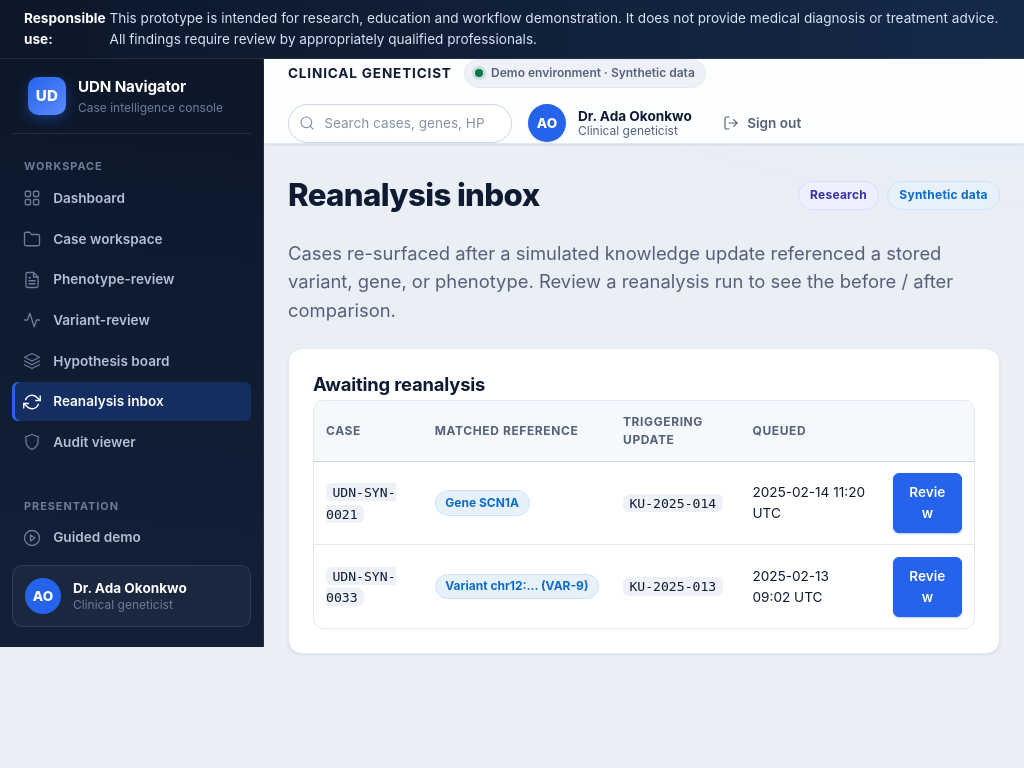
Test: Reanalysis inbox interactions › expands a before/after comparison on review
Step 1. Click the button "Review" in the row of "UDN-SYN-0021" → {"x": 927, "y": 503}, box left=893, top=473, right=962, bottom=533
(page scrolled)
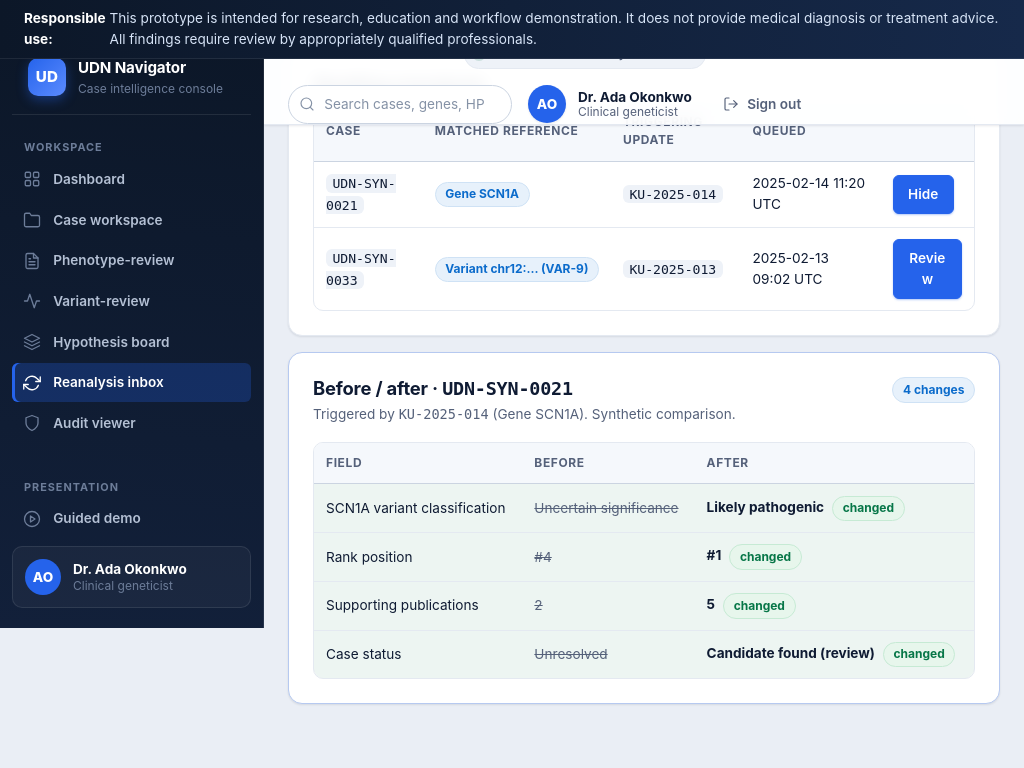
Check: the heading "Before / after · UDN-SYN-0021" is shown, box left=313, top=378, right=573, bottom=400
Check: the button named "Review" is expanded, box left=893, top=175, right=954, bottom=214
Check: the text "changed" next to "Likely pathogenic" is shown, box left=843, top=500, right=894, bottom=515
